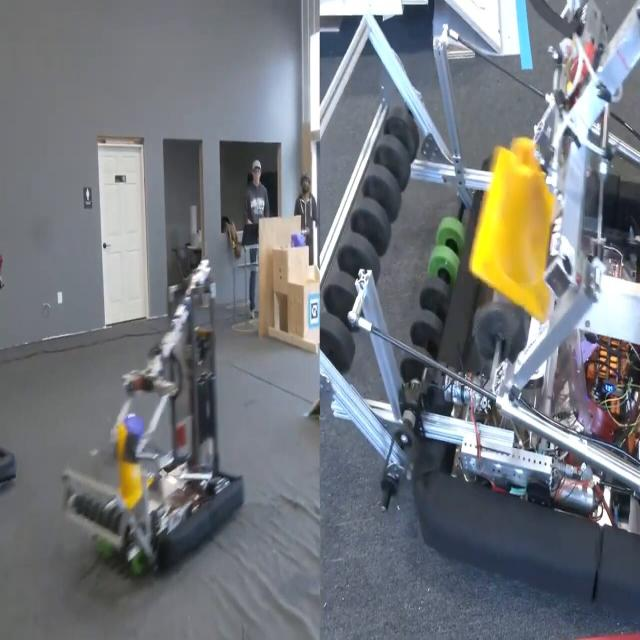frc_cone: (484, 136, 552, 324), (112, 417, 145, 511)
frc_cube: (287, 229, 307, 253)
